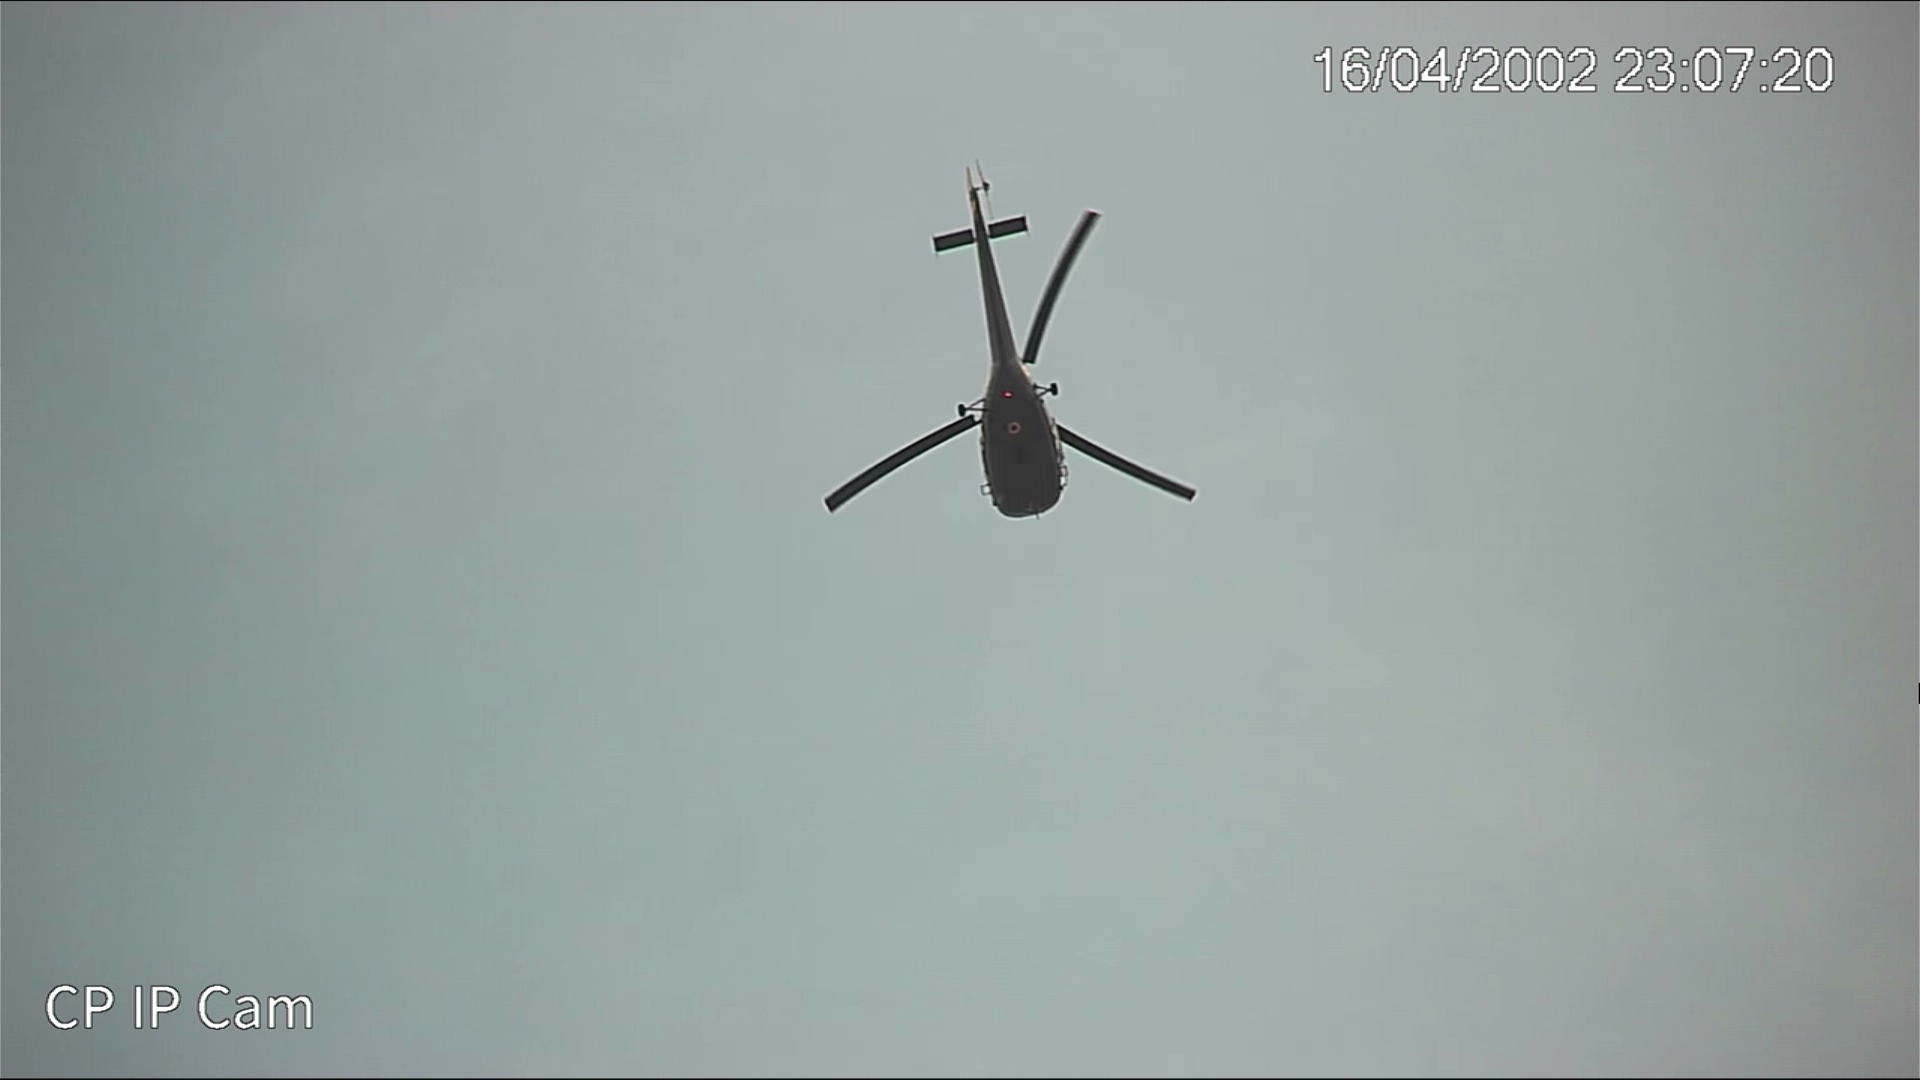SU_30: (823, 158, 1208, 531)
